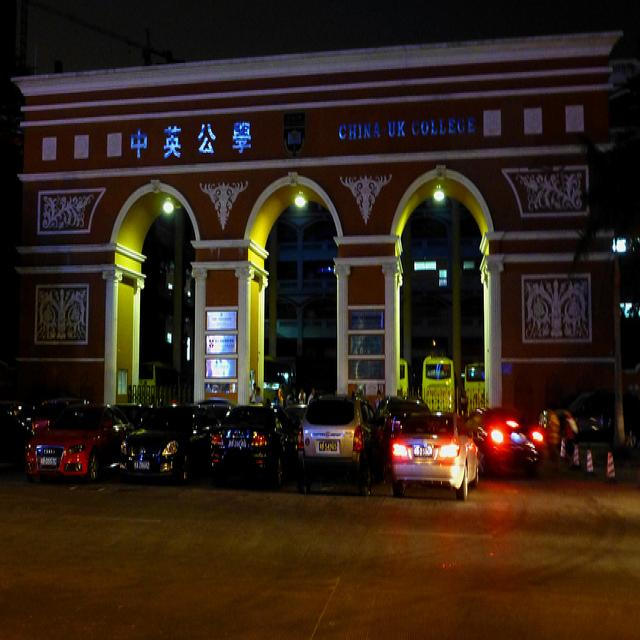Vehicle: (295, 393, 387, 495), (25, 402, 133, 484), (118, 405, 224, 485), (392, 408, 480, 503), (211, 402, 294, 488), (466, 404, 551, 480), (381, 396, 430, 490), (568, 389, 640, 448), (421, 356, 456, 418), (30, 398, 87, 434), (0, 414, 34, 471), (1, 403, 42, 432), (138, 362, 166, 386), (464, 361, 486, 389), (285, 402, 307, 423), (399, 359, 408, 398)
